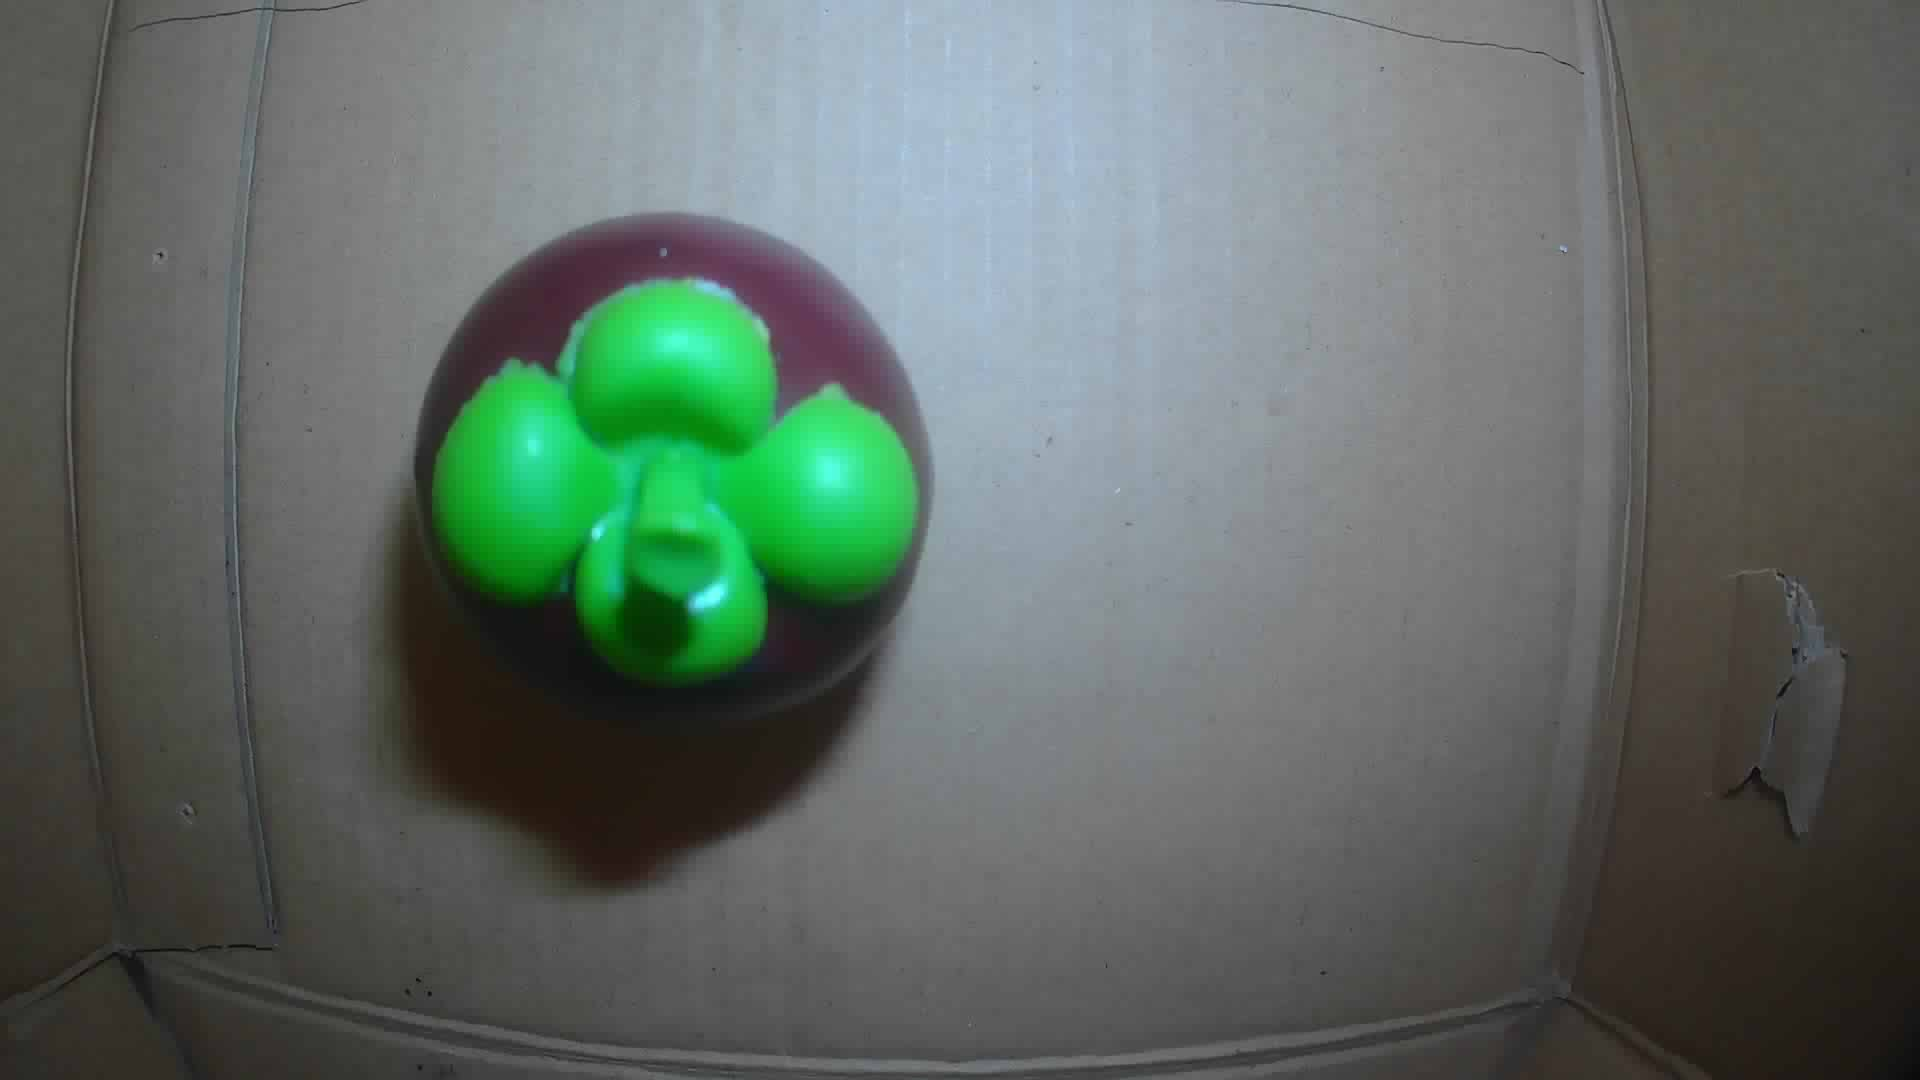mangosteen: (417, 208, 934, 723)
